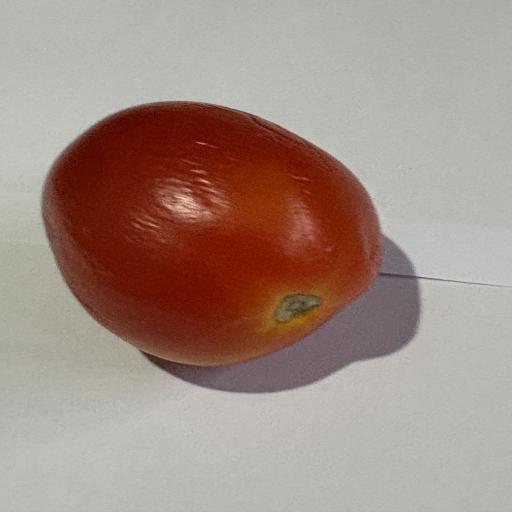spoiled: (42, 101, 382, 366)
